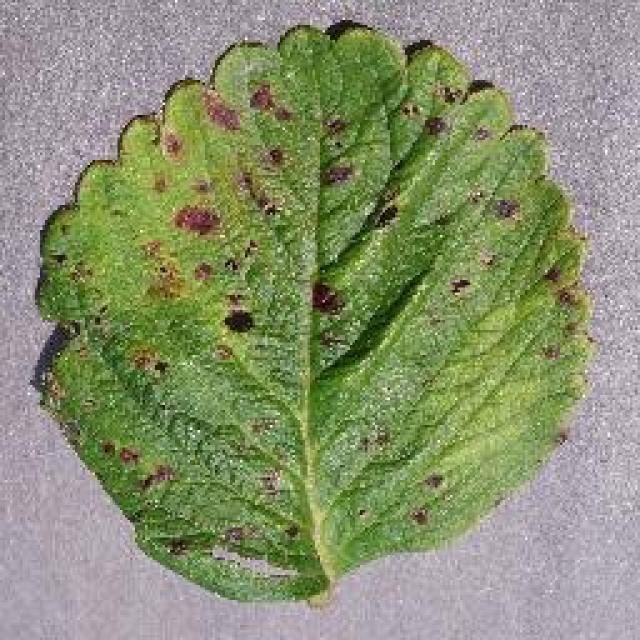Strawberry leaf scorch: (178, 90, 505, 347)
